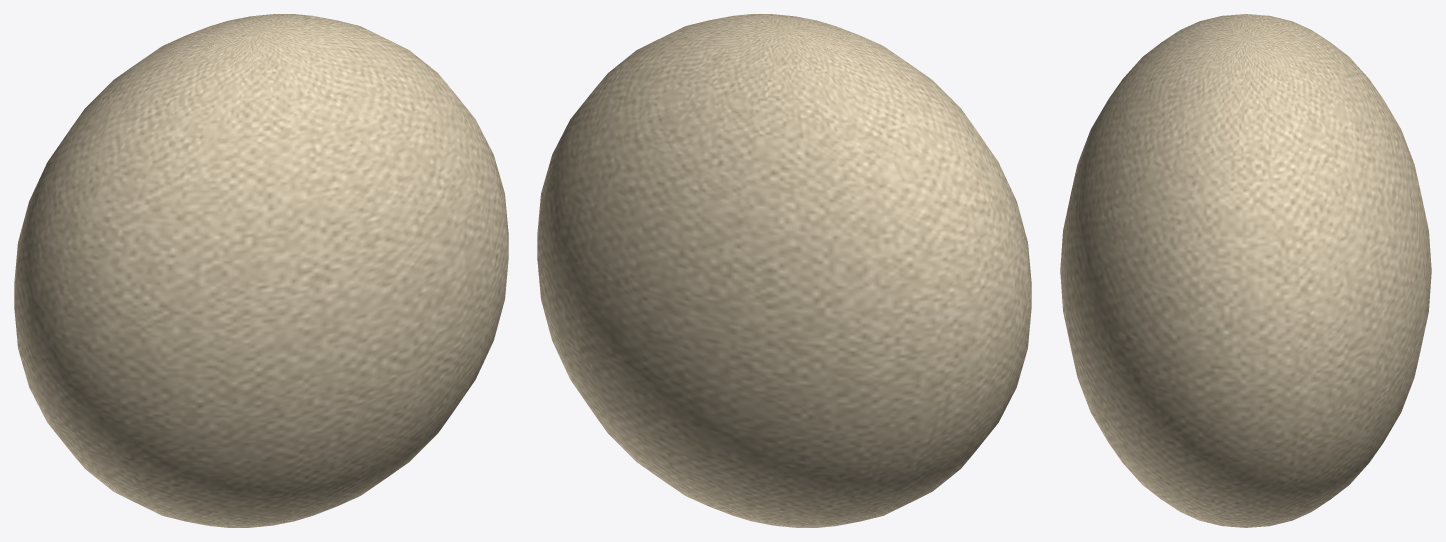
File: bean_bag.glb
3 renders of one model, left to right at view 1: azimuth 30°, elevation 25°; view 2: azimuth 150°, elevation 25°; view 3: azimuth 270°, elevation 25°, orthographic. The views are drawn at different scales.
Visible parts, largest first — view 1: bag; view 2: bag; view 3: bag.
Part boxes in pixels (x1,y1,x2,y2): bag: (14,14,508,527); bag: (537,14,1031,527); bag: (1060,14,1431,527).
Bounding box in the file's own units: 0.9 × 0.9 × 0.648.
2 materials, 1 textured.
